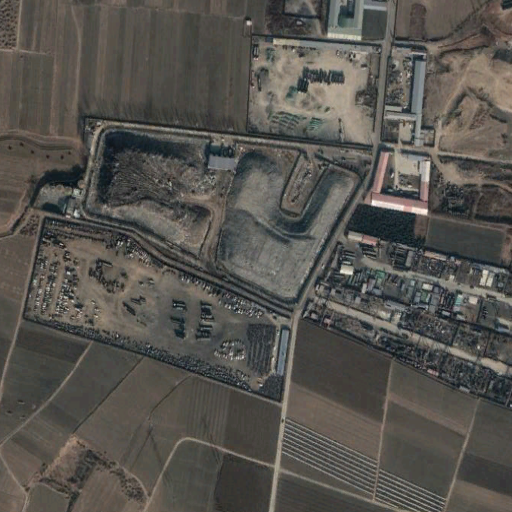lf: (82, 125, 359, 308)
